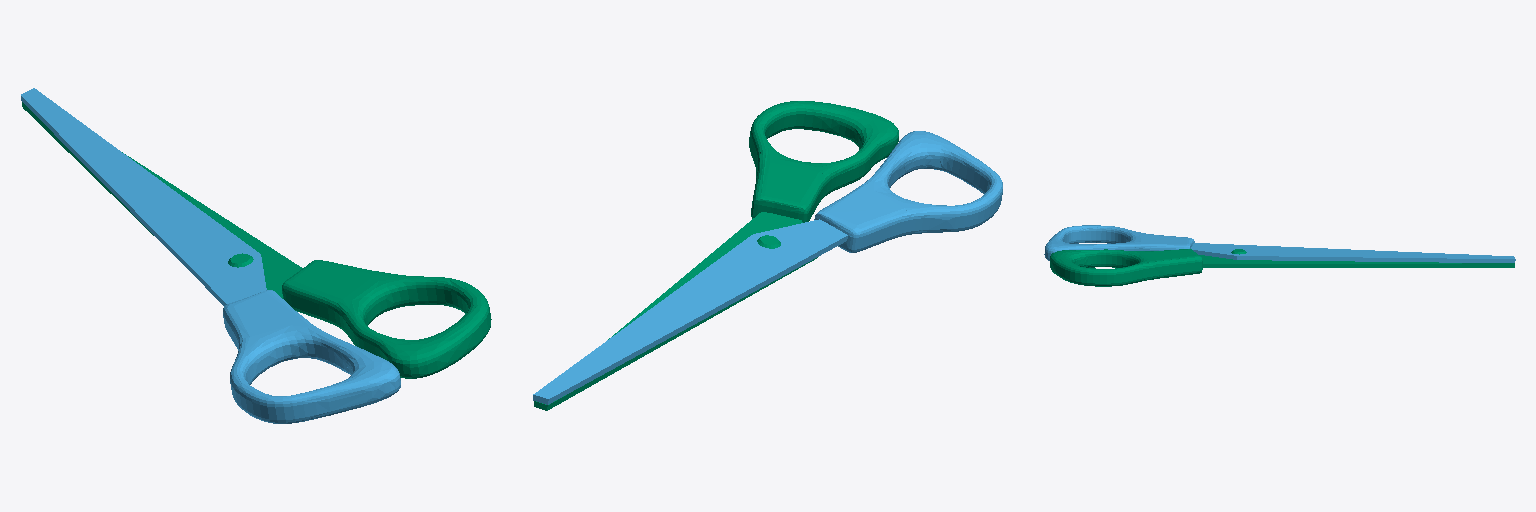
robot.urdf — partnet_7a7eb180-467e-4069-913a-05e395627a03:
<?xml version="1.0" ?>
<robot name="partnet_7a7eb180-467e-4069-913a-05e395627a03">
	<link name="base"/>
	<link name="link_0">
		<visual name="blade-8">
			<origin xyz="0.1142028399901856 -0.01885931957769449 -0.005700617182531707"/>
			<geometry>
				<mesh filename="textured_objs/original-50.obj"/>
			</geometry>
		</visual>
		<visual name="blade-8">
			<origin xyz="0.1142028399901856 -0.01885931957769449 -0.005700617182531707"/>
			<geometry>
				<mesh filename="textured_objs/original-55.obj"/>
			</geometry>
		</visual>
		<visual name="blade-8">
			<origin xyz="0.1142028399901856 -0.01885931957769449 -0.005700617182531707"/>
			<geometry>
				<mesh filename="textured_objs/original-51.obj"/>
			</geometry>
		</visual>
		<visual name="blade-8">
			<origin xyz="0.1142028399901856 -0.01885931957769449 -0.005700617182531707"/>
			<geometry>
				<mesh filename="textured_objs/original-53.obj"/>
			</geometry>
		</visual>
		<visual name="blade-8">
			<origin xyz="0.1142028399901856 -0.01885931957769449 -0.005700617182531707"/>
			<geometry>
				<mesh filename="textured_objs/original-54.obj"/>
			</geometry>
		</visual>
		<visual name="blade-8">
			<origin xyz="0.1142028399901856 -0.01885931957769449 -0.005700617182531707"/>
			<geometry>
				<mesh filename="textured_objs/original-49.obj"/>
			</geometry>
		</visual>
		<visual name="handle-9">
			<origin xyz="0.1142028399901856 -0.01885931957769449 -0.005700617182531707"/>
			<geometry>
				<mesh filename="textured_objs/original-58.obj"/>
			</geometry>
		</visual>
		<collision>
			<origin xyz="0.1142028399901856 -0.01885931957769449 -0.005700617182531707"/>
			<geometry>
				<mesh filename="textured_objs/original-50.obj"/>
			</geometry>
		</collision>
		<collision>
			<origin xyz="0.1142028399901856 -0.01885931957769449 -0.005700617182531707"/>
			<geometry>
				<mesh filename="textured_objs/original-55.obj"/>
			</geometry>
		</collision>
		<collision>
			<origin xyz="0.1142028399901856 -0.01885931957769449 -0.005700617182531707"/>
			<geometry>
				<mesh filename="textured_objs/original-51.obj"/>
			</geometry>
		</collision>
		<collision>
			<origin xyz="0.1142028399901856 -0.01885931957769449 -0.005700617182531707"/>
			<geometry>
				<mesh filename="textured_objs/original-53.obj"/>
			</geometry>
		</collision>
		<collision>
			<origin xyz="0.1142028399901856 -0.01885931957769449 -0.005700617182531707"/>
			<geometry>
				<mesh filename="textured_objs/original-54.obj"/>
			</geometry>
		</collision>
		<collision>
			<origin xyz="0.1142028399901856 -0.01885931957769449 -0.005700617182531707"/>
			<geometry>
				<mesh filename="textured_objs/original-49.obj"/>
			</geometry>
		</collision>
		<collision>
			<origin xyz="0.1142028399901856 -0.01885931957769449 -0.005700617182531707"/>
			<geometry>
				<mesh filename="textured_objs/original-58.obj"/>
			</geometry>
		</collision>
	</link>
	<joint name="joint_0" type="revolute">
		<origin xyz="-0.1142028399901856 0.01885931957769449 0.005700617182531707"/>
		<axis xyz="0 -1 0"/>
		<child link="link_0"/>
		<parent link="link_1"/>
		<limit lower="-0.0" upper="1.0471975511965976"/>
	</joint>
	<link name="link_1">
		<visual name="screw-3">
			<origin xyz="0 0 0"/>
			<geometry>
				<mesh filename="textured_objs/original-14.obj"/>
			</geometry>
		</visual>
		<visual name="screw-3">
			<origin xyz="0 0 0"/>
			<geometry>
				<mesh filename="textured_objs/original-18.obj"/>
			</geometry>
		</visual>
		<visual name="screw-3">
			<origin xyz="0 0 0"/>
			<geometry>
				<mesh filename="textured_objs/original-16.obj"/>
			</geometry>
		</visual>
		<visual name="screw-3">
			<origin xyz="0 0 0"/>
			<geometry>
				<mesh filename="textured_objs/original-12.obj"/>
			</geometry>
		</visual>
		<visual name="screw-3">
			<origin xyz="0 0 0"/>
			<geometry>
				<mesh filename="textured_objs/original-10.obj"/>
			</geometry>
		</visual>
		<visual name="screw-3">
			<origin xyz="0 0 0"/>
			<geometry>
				<mesh filename="textured_objs/original-7.obj"/>
			</geometry>
		</visual>
		<visual name="screw-3">
			<origin xyz="0 0 0"/>
			<geometry>
				<mesh filename="textured_objs/original-41.obj"/>
			</geometry>
		</visual>
		<visual name="screw-3">
			<origin xyz="0 0 0"/>
			<geometry>
				<mesh filename="textured_objs/original-5.obj"/>
			</geometry>
		</visual>
		<visual name="screw-3">
			<origin xyz="0 0 0"/>
			<geometry>
				<mesh filename="textured_objs/original-39.obj"/>
			</geometry>
		</visual>
		<visual name="screw-3">
			<origin xyz="0 0 0"/>
			<geometry>
				<mesh filename="textured_objs/original-3.obj"/>
			</geometry>
		</visual>
		<visual name="screw-3">
			<origin xyz="0 0 0"/>
			<geometry>
				<mesh filename="textured_objs/original-20.obj"/>
			</geometry>
		</visual>
		<visual name="screw-3">
			<origin xyz="0 0 0"/>
			<geometry>
				<mesh filename="textured_objs/original-24.obj"/>
			</geometry>
		</visual>
		<visual name="screw-3">
			<origin xyz="0 0 0"/>
			<geometry>
				<mesh filename="textured_objs/original-22.obj"/>
			</geometry>
		</visual>
		<visual name="screw-3">
			<origin xyz="0 0 0"/>
			<geometry>
				<mesh filename="textured_objs/original-26.obj"/>
			</geometry>
		</visual>
		<visual name="screw-3">
			<origin xyz="0 0 0"/>
			<geometry>
				<mesh filename="textured_objs/original-30.obj"/>
			</geometry>
		</visual>
		<visual name="screw-3">
			<origin xyz="0 0 0"/>
			<geometry>
				<mesh filename="textured_objs/original-28.obj"/>
			</geometry>
		</visual>
		<visual name="screw-3">
			<origin xyz="0 0 0"/>
			<geometry>
				<mesh filename="textured_objs/original-33.obj"/>
			</geometry>
		</visual>
		<visual name="screw-3">
			<origin xyz="0 0 0"/>
			<geometry>
				<mesh filename="textured_objs/original-35.obj"/>
			</geometry>
		</visual>
		<visual name="screw-3">
			<origin xyz="0 0 0"/>
			<geometry>
				<mesh filename="textured_objs/original-37.obj"/>
			</geometry>
		</visual>
		<visual name="screw-3">
			<origin xyz="0 0 0"/>
			<geometry>
				<mesh filename="textured_objs/original-40.obj"/>
			</geometry>
		</visual>
		<visual name="screw-3">
			<origin xyz="0 0 0"/>
			<geometry>
				<mesh filename="textured_objs/original-6.obj"/>
			</geometry>
		</visual>
		<visual name="screw-3">
			<origin xyz="0 0 0"/>
			<geometry>
				<mesh filename="textured_objs/original-42.obj"/>
			</geometry>
		</visual>
		<visual name="screw-3">
			<origin xyz="0 0 0"/>
			<geometry>
				<mesh filename="textured_objs/original-9.obj"/>
			</geometry>
		</visual>
		<visual name="screw-3">
			<origin xyz="0 0 0"/>
			<geometry>
				<mesh filename="textured_objs/original-11.obj"/>
			</geometry>
		</visual>
		<visual name="screw-3">
			<origin xyz="0 0 0"/>
			<geometry>
				<mesh filename="textured_objs/original-15.obj"/>
			</geometry>
		</visual>
		<visual name="screw-3">
			<origin xyz="0 0 0"/>
			<geometry>
				<mesh filename="textured_objs/original-13.obj"/>
			</geometry>
		</visual>
		<visual name="screw-3">
			<origin xyz="0 0 0"/>
			<geometry>
				<mesh filename="textured_objs/original-56.obj"/>
			</geometry>
		</visual>
		<visual name="screw-3">
			<origin xyz="0 0 0"/>
			<geometry>
				<mesh filename="textured_objs/original-4.obj"/>
			</geometry>
		</visual>
		<visual name="screw-3">
			<origin xyz="0 0 0"/>
			<geometry>
				<mesh filename="textured_objs/original-17.obj"/>
			</geometry>
		</visual>
		<visual name="screw-3">
			<origin xyz="0 0 0"/>
			<geometry>
				<mesh filename="textured_objs/original-19.obj"/>
			</geometry>
		</visual>
		<visual name="screw-3">
			<origin xyz="0 0 0"/>
			<geometry>
				<mesh filename="textured_objs/original-23.obj"/>
			</geometry>
		</visual>
		<visual name="screw-3">
			<origin xyz="0 0 0"/>
			<geometry>
				<mesh filename="textured_objs/original-21.obj"/>
			</geometry>
		</visual>
		<visual name="screw-3">
			<origin xyz="0 0 0"/>
			<geometry>
				<mesh filename="textured_objs/original-29.obj"/>
			</geometry>
		</visual>
		<visual name="screw-3">
			<origin xyz="0 0 0"/>
			<geometry>
				<mesh filename="textured_objs/original-31.obj"/>
			</geometry>
		</visual>
		<visual name="screw-3">
			<origin xyz="0 0 0"/>
			<geometry>
				<mesh filename="textured_objs/original-32.obj"/>
			</geometry>
		</visual>
		<visual name="screw-3">
			<origin xyz="0 0 0"/>
			<geometry>
				<mesh filename="textured_objs/original-27.obj"/>
			</geometry>
		</visual>
		<visual name="screw-3">
			<origin xyz="0 0 0"/>
			<geometry>
				<mesh filename="textured_objs/original-25.obj"/>
			</geometry>
		</visual>
		<visual name="screw-3">
			<origin xyz="0 0 0"/>
			<geometry>
				<mesh filename="textured_objs/original-36.obj"/>
			</geometry>
		</visual>
		<visual name="screw-3">
			<origin xyz="0 0 0"/>
			<geometry>
				<mesh filename="textured_objs/original-38.obj"/>
			</geometry>
		</visual>
		<visual name="screw-3">
			<origin xyz="0 0 0"/>
			<geometry>
				<mesh filename="textured_objs/original-34.obj"/>
			</geometry>
		</visual>
		<visual name="screw-3">
			<origin xyz="0 0 0"/>
			<geometry>
				<mesh filename="textured_objs/original-2.obj"/>
			</geometry>
		</visual>
		<visual name="blade-6">
			<origin xyz="0 0 0"/>
			<geometry>
				<mesh filename="textured_objs/original-48.obj"/>
			</geometry>
		</visual>
		<visual name="blade-6">
			<origin xyz="0 0 0"/>
			<geometry>
				<mesh filename="textured_objs/original-47.obj"/>
			</geometry>
		</visual>
		<visual name="blade-6">
			<origin xyz="0 0 0"/>
			<geometry>
				<mesh filename="textured_objs/original-44.obj"/>
			</geometry>
		</visual>
		<visual name="blade-6">
			<origin xyz="0 0 0"/>
			<geometry>
				<mesh filename="textured_objs/original-43.obj"/>
			</geometry>
		</visual>
		<visual name="handle-7">
			<origin xyz="0 0 0"/>
			<geometry>
				<mesh filename="textured_objs/original-59.obj"/>
			</geometry>
		</visual>
		<collision>
			<origin xyz="0 0 0"/>
			<geometry>
				<mesh filename="textured_objs/original-14.obj"/>
			</geometry>
		</collision>
		<collision>
			<origin xyz="0 0 0"/>
			<geometry>
				<mesh filename="textured_objs/original-18.obj"/>
			</geometry>
		</collision>
		<collision>
			<origin xyz="0 0 0"/>
			<geometry>
				<mesh filename="textured_objs/original-16.obj"/>
			</geometry>
		</collision>
		<collision>
			<origin xyz="0 0 0"/>
			<geometry>
				<mesh filename="textured_objs/original-12.obj"/>
			</geometry>
		</collision>
		<collision>
			<origin xyz="0 0 0"/>
			<geometry>
				<mesh filename="textured_objs/original-10.obj"/>
			</geometry>
		</collision>
		<collision>
			<origin xyz="0 0 0"/>
			<geometry>
				<mesh filename="textured_objs/original-7.obj"/>
			</geometry>
		</collision>
		<collision>
			<origin xyz="0 0 0"/>
			<geometry>
				<mesh filename="textured_objs/original-41.obj"/>
			</geometry>
		</collision>
		<collision>
			<origin xyz="0 0 0"/>
			<geometry>
				<mesh filename="textured_objs/original-5.obj"/>
			</geometry>
		</collision>
		<collision>
			<origin xyz="0 0 0"/>
			<geometry>
				<mesh filename="textured_objs/original-39.obj"/>
			</geometry>
		</collision>
		<collision>
			<origin xyz="0 0 0"/>
			<geometry>
				<mesh filename="textured_objs/original-3.obj"/>
			</geometry>
		</collision>
		<collision>
			<origin xyz="0 0 0"/>
			<geometry>
				<mesh filename="textured_objs/original-20.obj"/>
			</geometry>
		</collision>
		<collision>
			<origin xyz="0 0 0"/>
			<geometry>
				<mesh filename="textured_objs/original-24.obj"/>
			</geometry>
		</collision>
		<collision>
			<origin xyz="0 0 0"/>
			<geometry>
				<mesh filename="textured_objs/original-22.obj"/>
			</geometry>
		</collision>
		<collision>
			<origin xyz="0 0 0"/>
			<geometry>
				<mesh filename="textured_objs/original-26.obj"/>
			</geometry>
		</collision>
		<collision>
			<origin xyz="0 0 0"/>
			<geometry>
				<mesh filename="textured_objs/original-30.obj"/>
			</geometry>
		</collision>
		<collision>
			<origin xyz="0 0 0"/>
			<geometry>
				<mesh filename="textured_objs/original-28.obj"/>
			</geometry>
		</collision>
		<collision>
			<origin xyz="0 0 0"/>
			<geometry>
				<mesh filename="textured_objs/original-33.obj"/>
			</geometry>
		</collision>
		<collision>
			<origin xyz="0 0 0"/>
			<geometry>
				<mesh filename="textured_objs/original-35.obj"/>
			</geometry>
		</collision>
		<collision>
			<origin xyz="0 0 0"/>
			<geometry>
				<mesh filename="textured_objs/original-37.obj"/>
			</geometry>
		</collision>
		<collision>
			<origin xyz="0 0 0"/>
			<geometry>
				<mesh filename="textured_objs/original-40.obj"/>
			</geometry>
		</collision>
		<collision>
			<origin xyz="0 0 0"/>
			<geometry>
				<mesh filename="textured_objs/original-6.obj"/>
			</geometry>
		</collision>
		<collision>
			<origin xyz="0 0 0"/>
			<geometry>
				<mesh filename="textured_objs/original-42.obj"/>
			</geometry>
		</collision>
		<collision>
			<origin xyz="0 0 0"/>
			<geometry>
				<mesh filename="textured_objs/original-9.obj"/>
			</geometry>
		</collision>
		<collision>
			<origin xyz="0 0 0"/>
			<geometry>
				<mesh filename="textured_objs/original-11.obj"/>
			</geometry>
		</collision>
		<collision>
			<origin xyz="0 0 0"/>
			<geometry>
				<mesh filename="textured_objs/original-15.obj"/>
			</geometry>
		</collision>
		<collision>
			<origin xyz="0 0 0"/>
			<geometry>
				<mesh filename="textured_objs/original-13.obj"/>
			</geometry>
		</collision>
		<collision>
			<origin xyz="0 0 0"/>
			<geometry>
				<mesh filename="textured_objs/original-56.obj"/>
			</geometry>
		</collision>
		<collision>
			<origin xyz="0 0 0"/>
			<geometry>
				<mesh filename="textured_objs/original-4.obj"/>
			</geometry>
		</collision>
		<collision>
			<origin xyz="0 0 0"/>
			<geometry>
				<mesh filename="textured_objs/original-17.obj"/>
			</geometry>
		</collision>
		<collision>
			<origin xyz="0 0 0"/>
			<geometry>
				<mesh filename="textured_objs/original-19.obj"/>
			</geometry>
		</collision>
		<collision>
			<origin xyz="0 0 0"/>
			<geometry>
				<mesh filename="textured_objs/original-23.obj"/>
			</geometry>
		</collision>
		<collision>
			<origin xyz="0 0 0"/>
			<geometry>
				<mesh filename="textured_objs/original-21.obj"/>
			</geometry>
		</collision>
		<collision>
			<origin xyz="0 0 0"/>
			<geometry>
				<mesh filename="textured_objs/original-29.obj"/>
			</geometry>
		</collision>
		<collision>
			<origin xyz="0 0 0"/>
			<geometry>
				<mesh filename="textured_objs/original-31.obj"/>
			</geometry>
		</collision>
		<collision>
			<origin xyz="0 0 0"/>
			<geometry>
				<mesh filename="textured_objs/original-32.obj"/>
			</geometry>
		</collision>
		<collision>
			<origin xyz="0 0 0"/>
			<geometry>
				<mesh filename="textured_objs/original-27.obj"/>
			</geometry>
		</collision>
		<collision>
			<origin xyz="0 0 0"/>
			<geometry>
				<mesh filename="textured_objs/original-25.obj"/>
			</geometry>
		</collision>
		<collision>
			<origin xyz="0 0 0"/>
			<geometry>
				<mesh filename="textured_objs/original-36.obj"/>
			</geometry>
		</collision>
		<collision>
			<origin xyz="0 0 0"/>
			<geometry>
				<mesh filename="textured_objs/original-38.obj"/>
			</geometry>
		</collision>
		<collision>
			<origin xyz="0 0 0"/>
			<geometry>
				<mesh filename="textured_objs/original-34.obj"/>
			</geometry>
		</collision>
		<collision>
			<origin xyz="0 0 0"/>
			<geometry>
				<mesh filename="textured_objs/original-2.obj"/>
			</geometry>
		</collision>
		<collision>
			<origin xyz="0 0 0"/>
			<geometry>
				<mesh filename="textured_objs/original-48.obj"/>
			</geometry>
		</collision>
		<collision>
			<origin xyz="0 0 0"/>
			<geometry>
				<mesh filename="textured_objs/original-47.obj"/>
			</geometry>
		</collision>
		<collision>
			<origin xyz="0 0 0"/>
			<geometry>
				<mesh filename="textured_objs/original-44.obj"/>
			</geometry>
		</collision>
		<collision>
			<origin xyz="0 0 0"/>
			<geometry>
				<mesh filename="textured_objs/original-43.obj"/>
			</geometry>
		</collision>
		<collision>
			<origin xyz="0 0 0"/>
			<geometry>
				<mesh filename="textured_objs/original-59.obj"/>
			</geometry>
		</collision>
	</link>
	<joint name="joint_1" type="fixed">
		<origin rpy="1.570796326794897 0 -1.570796326794897" xyz="0 0 0"/>
		<child link="link_1"/>
		<parent link="base"/>
	</joint>
</robot>

--- Render facts (derived) ---
The picture shows the robot from 3 angles, left to right: view 1: azimuth 30°, elevation 25°; view 2: azimuth 150°, elevation 25°; view 3: azimuth 270°, elevation 25°; orthographic projection.
Model partnet_7a7eb180-467e-4069-913a-05e395627a03 with 3 links and 2 joints (1 revolute, 1 fixed), rooted at base, posed all joints at 0.
Links seen in each view (by area): view 1: link_0, link_1; view 2: link_0, link_1; view 3: link_1, link_0.
Link boxes in pixels (bbox=[...]): link_0: bbox=[21, 88, 400, 423]; link_1: bbox=[22, 102, 491, 378]; link_0: bbox=[533, 131, 1002, 404]; link_1: bbox=[534, 101, 898, 410]; link_1: bbox=[1050, 249, 1514, 286]; link_0: bbox=[1044, 225, 1515, 262].
Bounding box of the posed robot: 0.5471 × 1.51 × 0.1401 m (x, y, z).
53 mesh visuals loaded from 53 distinct referenced files (53 OBJ).
